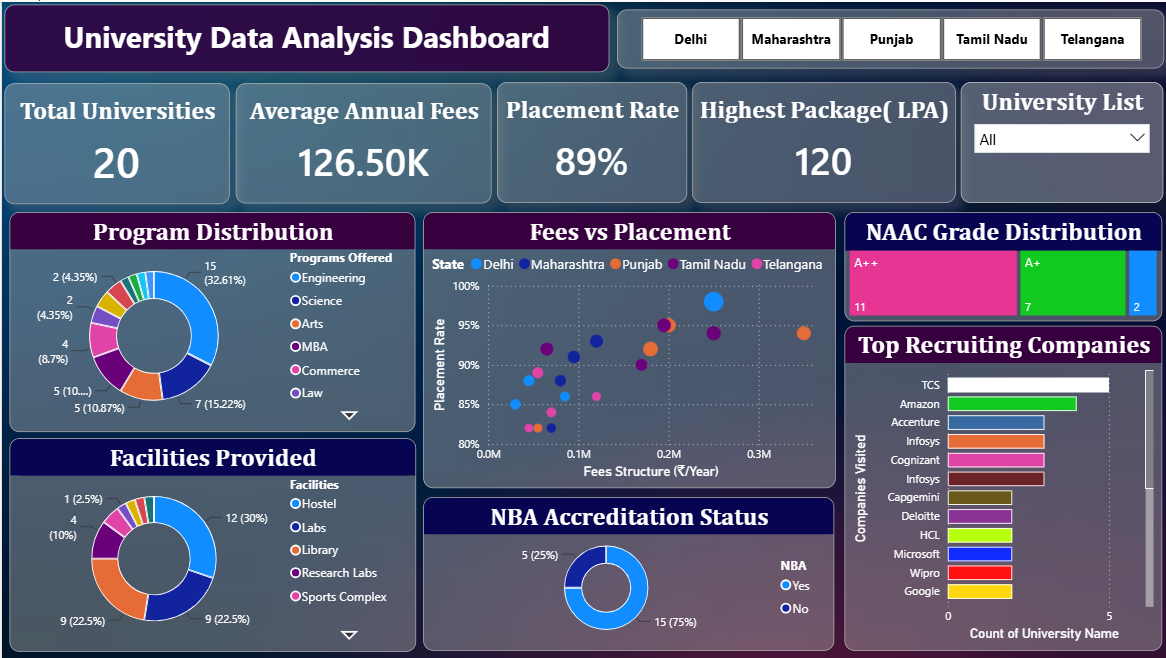

This screenshot's page, from the dashboard's own definition file:
{"tool":"powerbi","page":{"name":"Page 1","canvas":[1280,720],"ordinal":0},"visuals":[{"type":"textbox","box":[2.7,2.7,664.2,74.1],"z":0},{"type":"slicer","fields":{"Values":["University_Data.State"]},"box":[675,8.2,601,64.5],"z":1000},{"type":"cardVisual","title":"Total Universities","fields":{"Data":["Count(University_Data.University Name)"]},"box":[2.7,89.2,247,133.1],"z":2000},{"type":"slicer","title":"University List","fields":{"Values":["University_Data.University Name"]},"box":[1052,87.8,222.3,133.1],"z":3000},{"type":"cardVisual","title":"Average Annual Fees","fields":{"Data":["Avg(University_Data.Fees Structure (₹/Year))"]},"box":[256.6,89.2,281,131.7],"z":4000},{"type":"cardVisual","title":"Highest Package( LPA)","fields":{"Data":["Max(University_Data.Highest Package (LPA))"]},"box":[757,87.8,289.5,133.1],"z":5000},{"type":"cardVisual","title":"Placement Rate","fields":{"Data":["Avg(University_Data.Placement Rate)"]},"box":[543,87.8,208.6,133.1],"z":6000},{"type":"donutChart","title":"Program Distribution","fields":{"Category":["Programs.Programs Offered"],"Y":["CountNonNull(Programs.University Name)"]},"box":[8.2,230.5,446,241.5],"z":7000},{"type":"clusteredBarChart","title":"Top Recruiting Companies","fields":{"Category":["Companies.Companies Visited"],"Y":["CountNonNull(Companies.University Name)"]},"box":[924.9,355.4,349,356.8],"z":8000},{"type":"scatterChart","title":"Fees vs Placement","fields":{"X":["University_Data.Fees Structure (₹/Year)"],"Y":["University_Data.Placement Rate"],"Size":["Max(University_Data.Highest Package (LPA))"],"Series":["University_Data.State"]},"box":[462.4,230.5,452.8,303.3],"z":9000},{"type":"treemap","title":" NAAC Grade Distribution","fields":{"Group":["University_Data.NAAC"],"Values":["Count(University_Data.University Name)"]},"box":[924.9,230.5,349,120],"z":10000},{"type":"pieChart","title":"Facilities Provided","fields":{"Category":["Facilities.Facilities"],"Y":["CountNonNull(Facilities.University Name)"]},"box":[8,479,446,234],"z":11000},{"type":"pieChart","title":"NBA Accreditation Status","fields":{"Category":["University_Data.NBA"],"Y":["CountNonNull(University_Data.University Name)"]},"box":[462.4,543.4,451.5,168.8],"z":12000}]}

Visuals, with their boxes in screenshot pixels (x1, y1, x2, y2), scaled from the page's 1280x720 canvas onto the 1166x658 screenshot:
textbox: left=2, top=2, right=608, bottom=70
slicer - University_Data.State: left=615, top=7, right=1162, bottom=66
"Total Universities" cardVisual: left=2, top=82, right=227, bottom=203
"University List" slicer: left=958, top=80, right=1161, bottom=202
"Average Annual Fees" cardVisual: left=234, top=82, right=490, bottom=202
"Highest Package( LPA)" cardVisual: left=690, top=80, right=953, bottom=202
"Placement Rate" cardVisual: left=495, top=80, right=685, bottom=202
"Program Distribution" donutChart: left=7, top=211, right=414, bottom=431
"Top Recruiting Companies" clusteredBarChart: left=843, top=325, right=1160, bottom=651
"Fees vs Placement" scatterChart: left=421, top=211, right=834, bottom=488
" NAAC Grade Distribution" treemap: left=843, top=211, right=1160, bottom=320
"Facilities Provided" pieChart: left=7, top=438, right=414, bottom=652
"NBA Accreditation Status" pieChart: left=421, top=497, right=833, bottom=651
